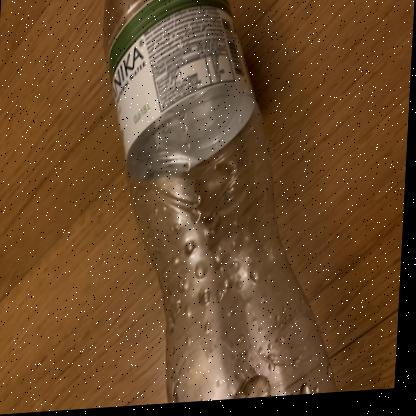Plastic: (103, 0, 339, 406)
